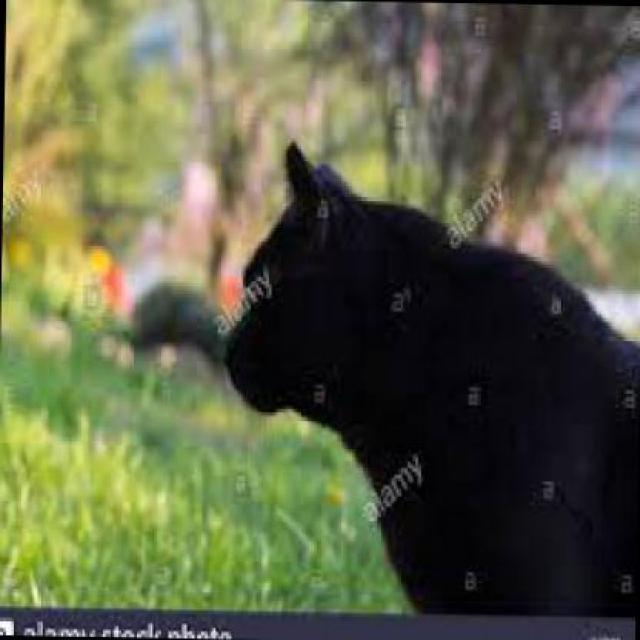animals: (197, 130, 626, 538)
